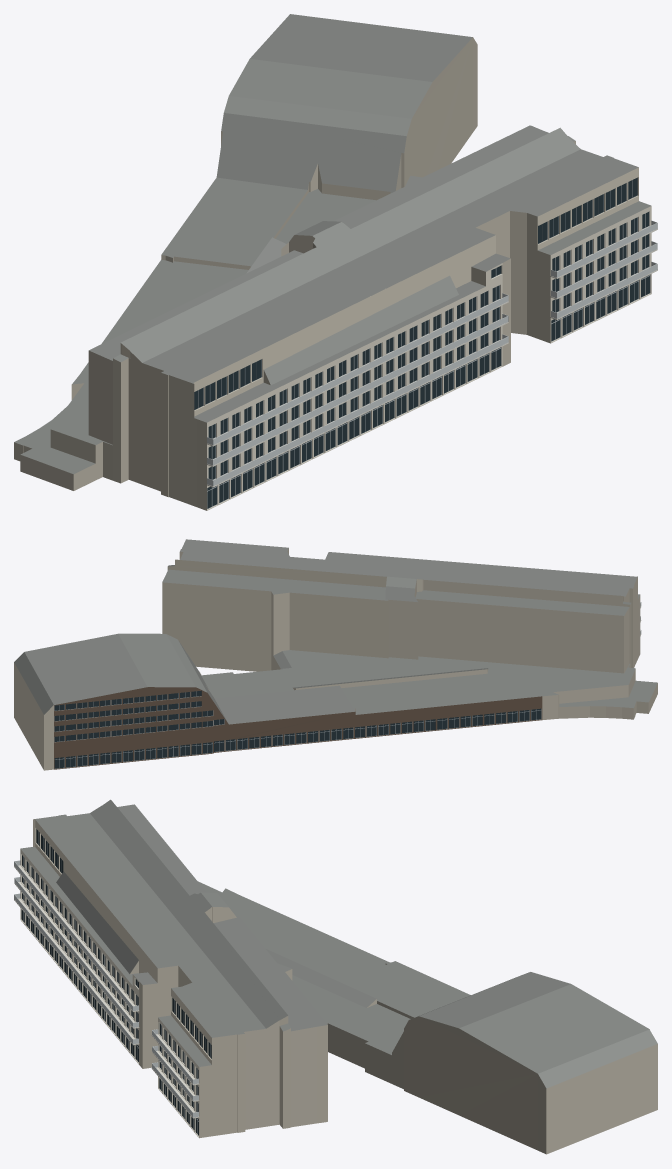
File: recipe-large-polderweg-3-134667.glb
The picture shows the model from 3 angles, top to bottom: view 1: azimuth 30°, elevation 25°; view 2: azimuth 150°, elevation 25°; view 3: azimuth 270°, elevation 25°; orthographic projection. The views are drawn at different scales.
Parts seen in each view (by area): view 1: polderweg-3-134667; view 2: polderweg-3-134667; view 3: polderweg-3-134667.
Part boxes in pixels (left/top/right/bottom): polderweg-3-134667: left=14, top=14, right=657, bottom=510; polderweg-3-134667: left=14, top=539, right=657, bottom=770; polderweg-3-134667: left=14, top=799, right=657, bottom=1154.
Bounding box in the file's own units: 122 × 23.43 × 121.
